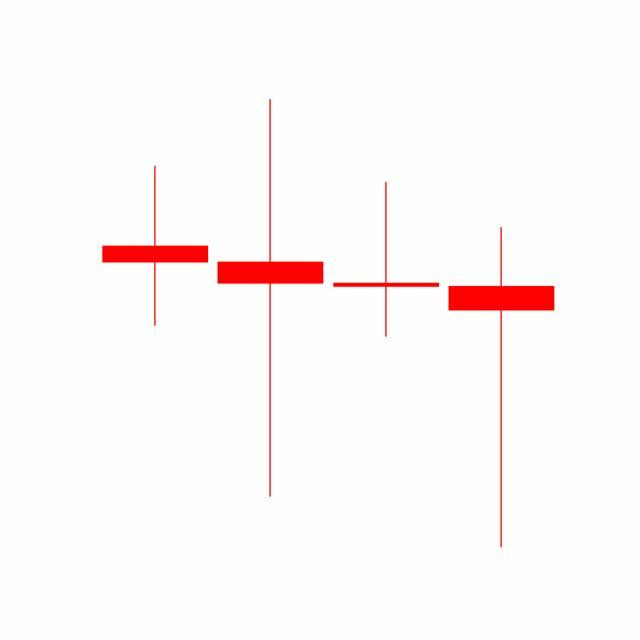Spinning Top: (329, 181, 445, 339)
